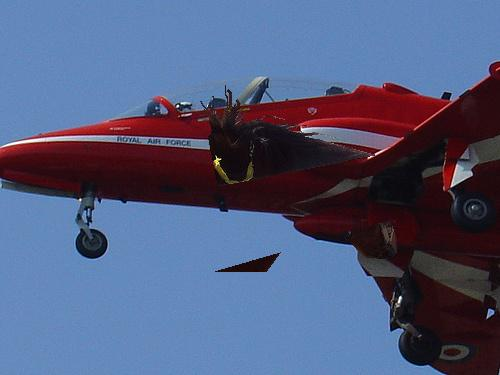tampered: (201, 86, 397, 272)
